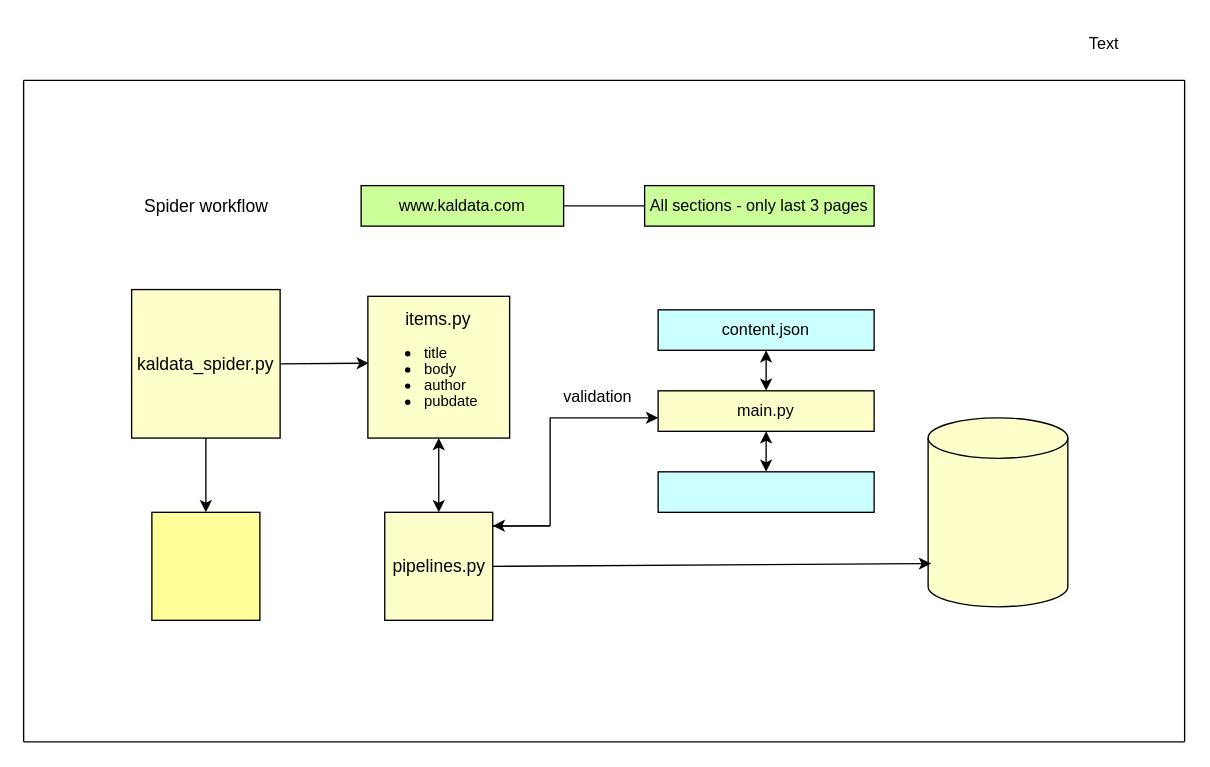
Image size: 1210x767. Some labels were removed from this diagram. Here are the shapes that lost their labels. From the top down, the box of each, then its label:
(657, 470, 874, 512): content-schema.json
(927, 416, 1068, 607): Sqlite3 kaldata.db
(151, 511, 260, 620): settings.py
